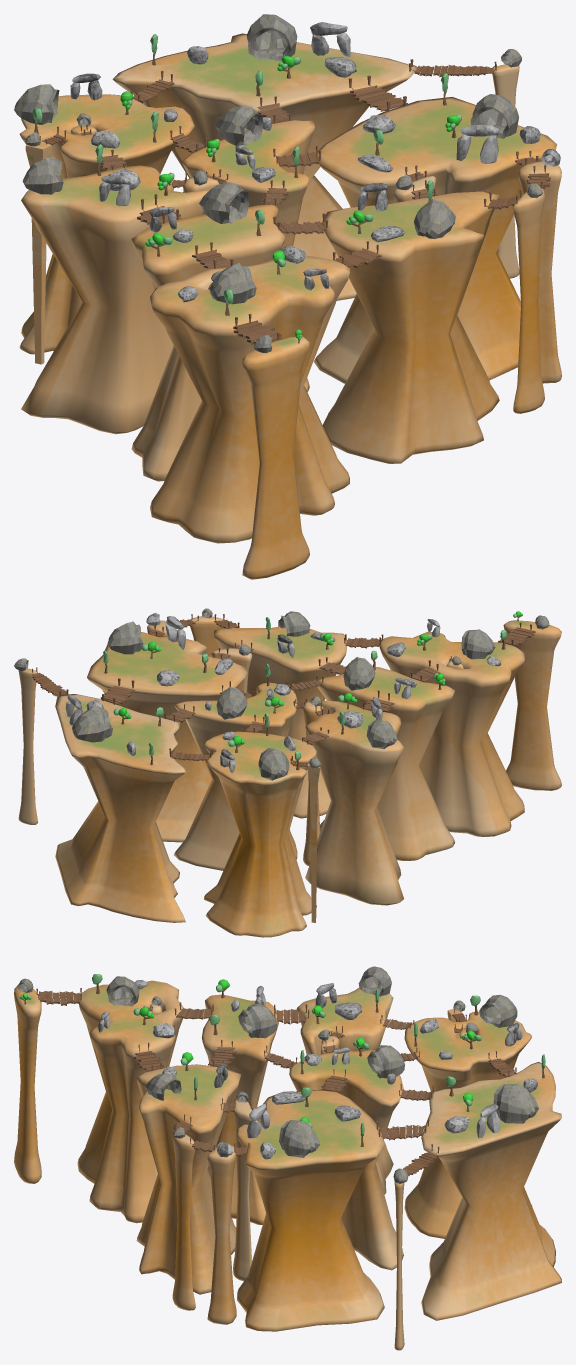
File: map.FBX
3 views of the same model, one above another, from view 1: azimuth 30°, elevation 25°; view 2: azimuth 150°, elevation 25°; view 3: azimuth 270°, elevation 25° (orthographic). The views are drawn at different scales.
Parts seen in each view (by area): view 1: GN, JN, CHN, GB, Gangwon, JB, Jeju, Gyeongi, CHB, Busan, Woolsan, Inchen (+15 smaller); view 2: Gangwon, Gyeongi, JN, CHN, GB, JB, CHB, GN, Jeju, Dokdo, Inchen, GA_C (+14 smaller); view 3: GB, Gangwon, JN, GN, Gyeongi, CHB, JB, CHN, Jeju, Woolsan, Busan, Daegu (+13 smaller).
Part boxes in pixels (bbox=[...]): GN: bbox=[322, 191, 499, 463]; JN: bbox=[150, 256, 349, 543]; CHN: bbox=[21, 165, 209, 434]; GB: bbox=[313, 97, 556, 383]; Gangwon: bbox=[112, 33, 417, 300]; JB: bbox=[131, 204, 285, 481]; Jeju: bbox=[242, 336, 309, 579]; Gyeongi: bbox=[19, 94, 194, 354]; CHB: bbox=[182, 119, 314, 392]; Busan: bbox=[513, 188, 544, 413]; Woolsan: bbox=[518, 161, 561, 383]; Inchen: bbox=[25, 141, 51, 364]; Gangwon: bbox=[55, 694, 185, 922]; Gyeongi: bbox=[204, 731, 316, 937]; JN: bbox=[379, 631, 524, 836]; CHN: bbox=[305, 700, 403, 905]; GB: bbox=[87, 632, 247, 842]; JB: bbox=[317, 667, 454, 860]; CHB: bbox=[173, 682, 297, 870]; GN: bbox=[214, 620, 347, 818]; Jeju: bbox=[503, 620, 561, 790]; Dokdo: bbox=[18, 668, 37, 824]; Inchen: bbox=[307, 763, 319, 922]; GA_C: bbox=[72, 706, 112, 742]; GB: bbox=[237, 1090, 384, 1331]; Gangwon: bbox=[421, 1062, 561, 1320]; JN: bbox=[77, 980, 183, 1223]; GN: bbox=[136, 1064, 240, 1294]; Gyeongi: bbox=[404, 1011, 532, 1238]; CHB: bbox=[289, 1049, 403, 1270]; JB: bbox=[201, 994, 278, 1224]; CHN: bbox=[297, 987, 393, 1194]; Jeju: bbox=[14, 985, 41, 1183]; Woolsan: bbox=[207, 1144, 236, 1324]; Busan: bbox=[172, 1130, 195, 1310]; Daegu: bbox=[233, 1100, 251, 1281].
Size of the model in its own units: 131 by 61.09 by 148.
